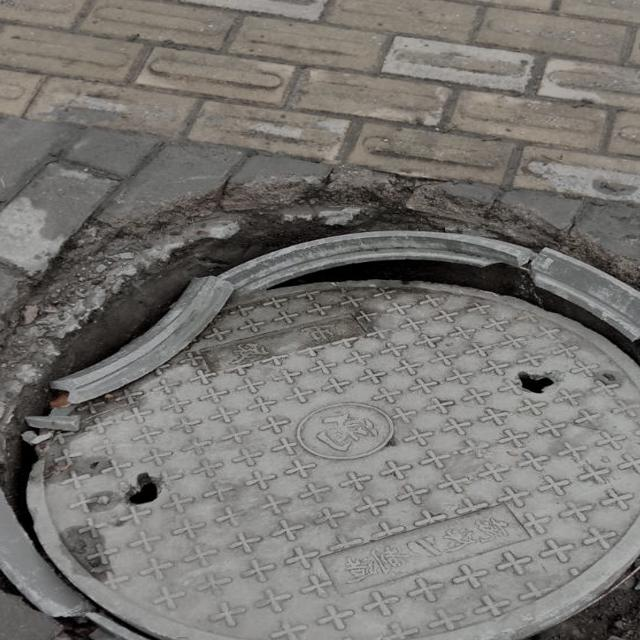circle: (0, 177, 640, 640)
